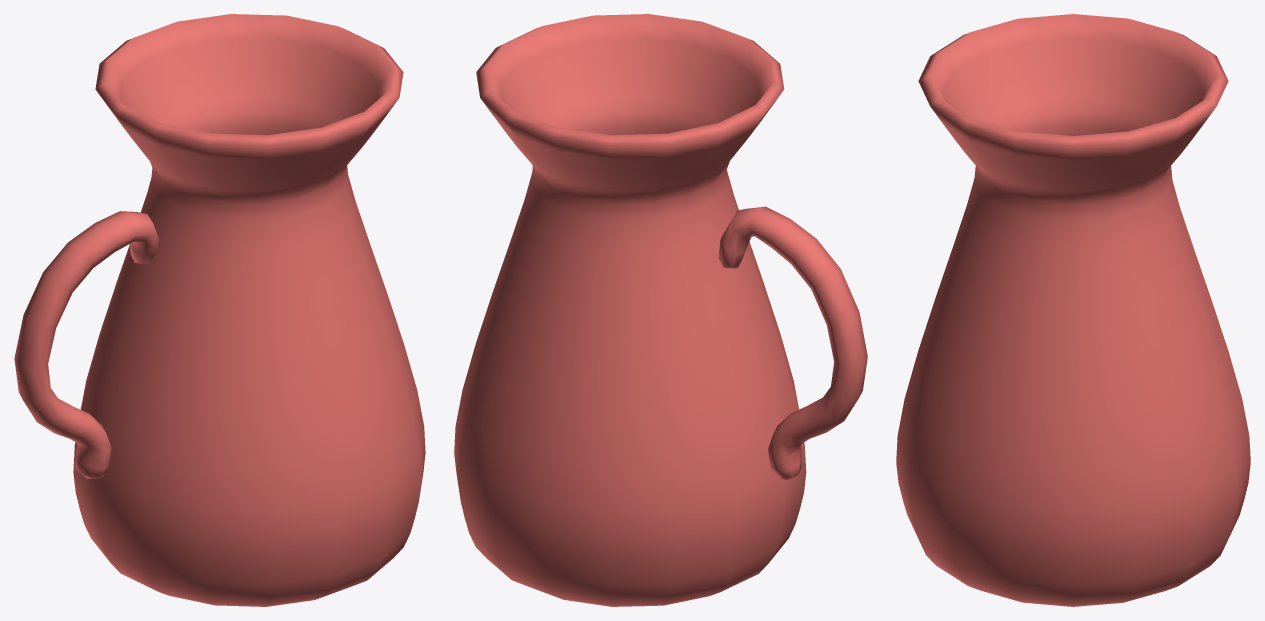
The model's file is jug.fbx.
3 renders of one model, left to right at view 1: azimuth 30°, elevation 25°; view 2: azimuth 150°, elevation 25°; view 3: azimuth 270°, elevation 25°, orthographic.
Visible parts, largest first — view 1: Vert; view 2: Vert; view 3: Vert.
Boxes of the visible parts, bbox=[...] form: Vert: bbox=[14, 14, 425, 606]; Vert: bbox=[454, 14, 867, 606]; Vert: bbox=[896, 14, 1250, 606].
Size of the model in its own units: 83.15 by 101 by 66.19.
